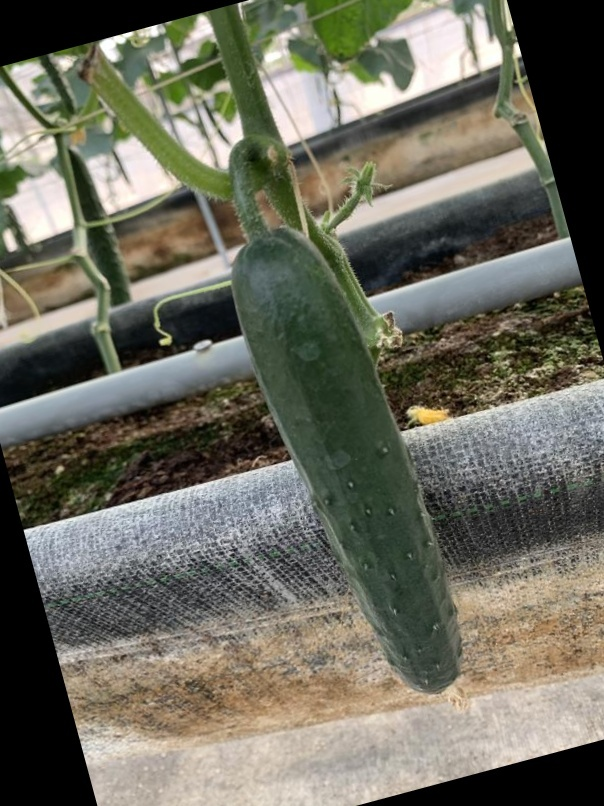mature: (222, 228, 467, 694)
